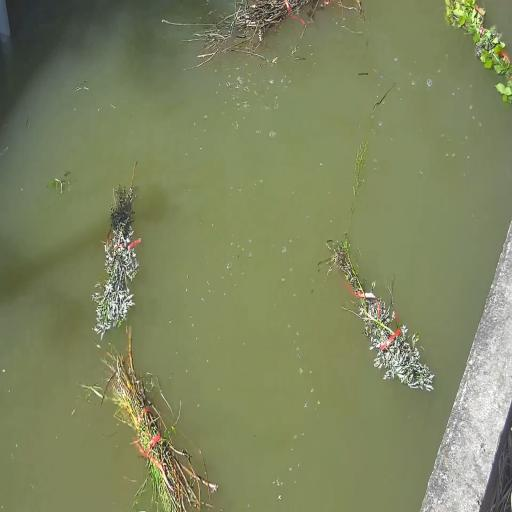twig: (88, 327, 217, 512), (327, 233, 434, 391), (168, 0, 312, 58), (92, 185, 138, 338), (445, 0, 512, 103), (353, 144, 367, 199), (394, 329, 400, 336)
